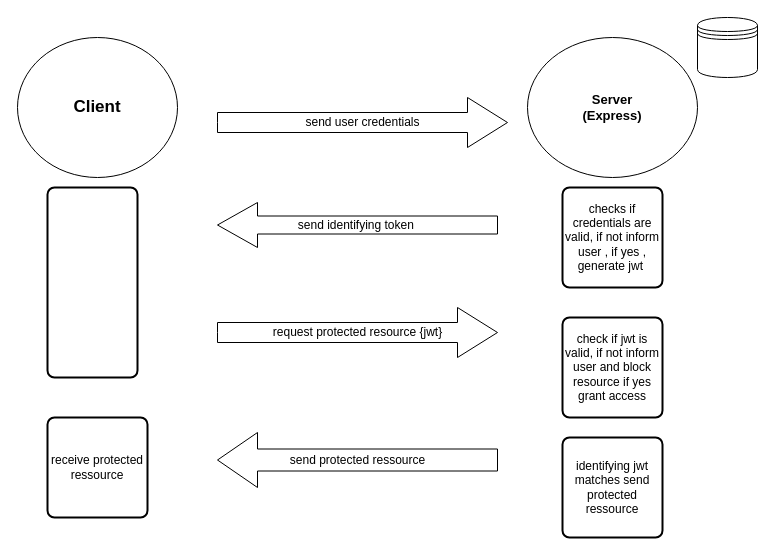
Image size: 775x556. Some labels were removed from this diagram. Here are the shapes that lost their labels. From the top down, the box of each, then its label:
(696, 16, 758, 78): MongoDB
(46, 186, 138, 378): store jwt, use it whenever requesting protected resources
